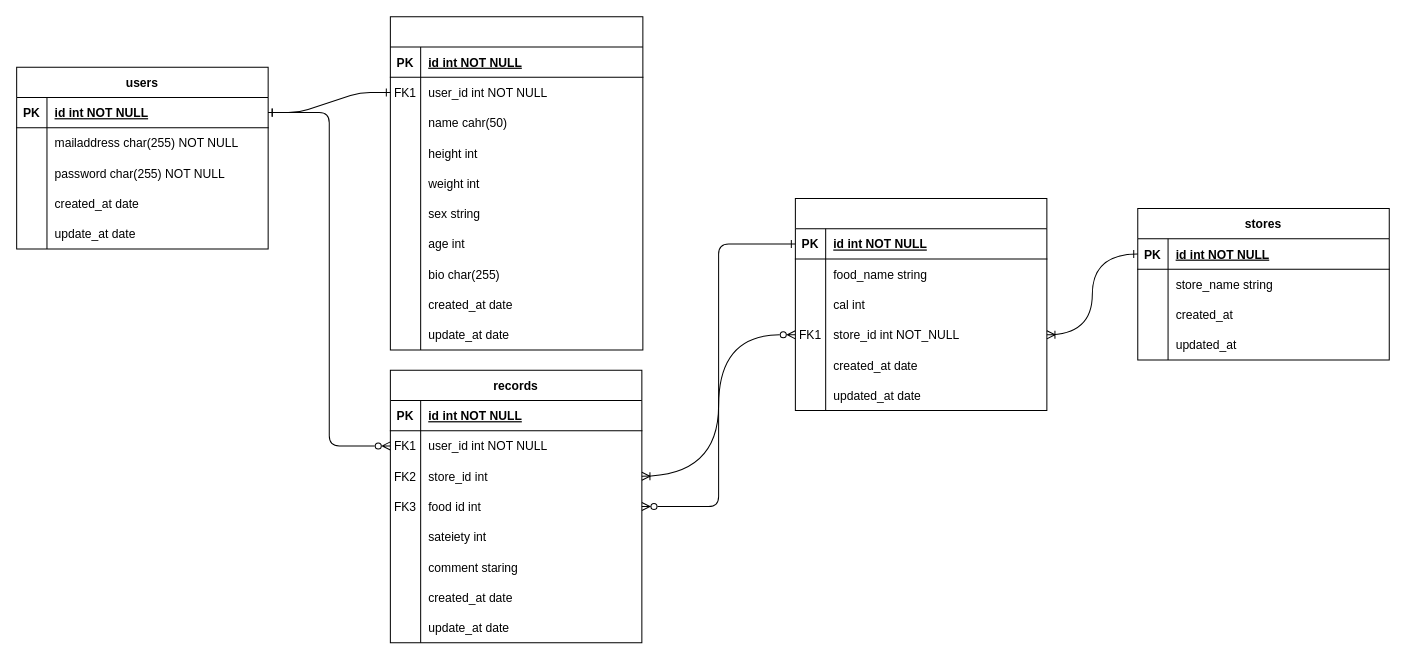
Some shapes in this 1406 by 660 pixel diagram are drawn without their labels. Each missing label, with the box of its shape:
foods: (794, 197, 1047, 411)
user_detail: (389, 16, 643, 350)
